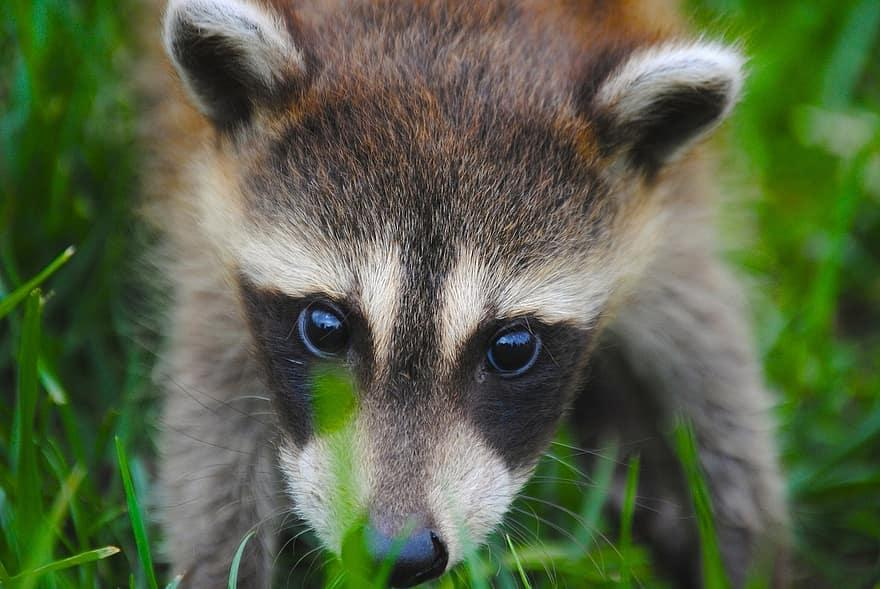raccoon: (114, 2, 795, 589)
